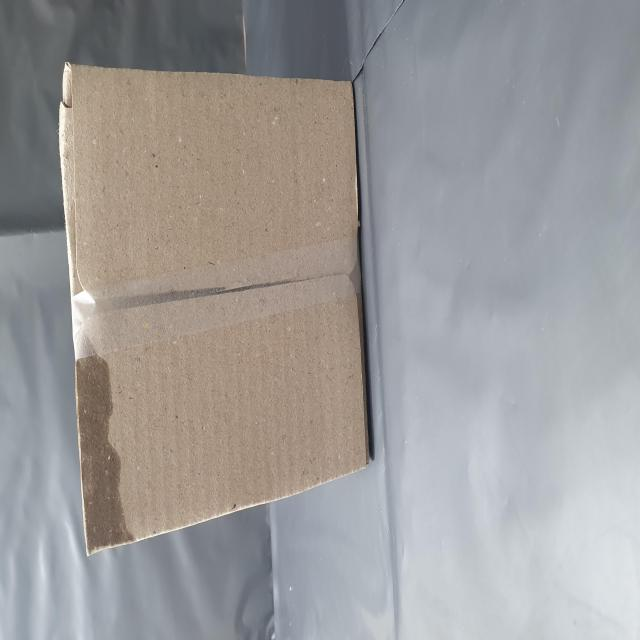wet: (49, 124, 172, 231)
